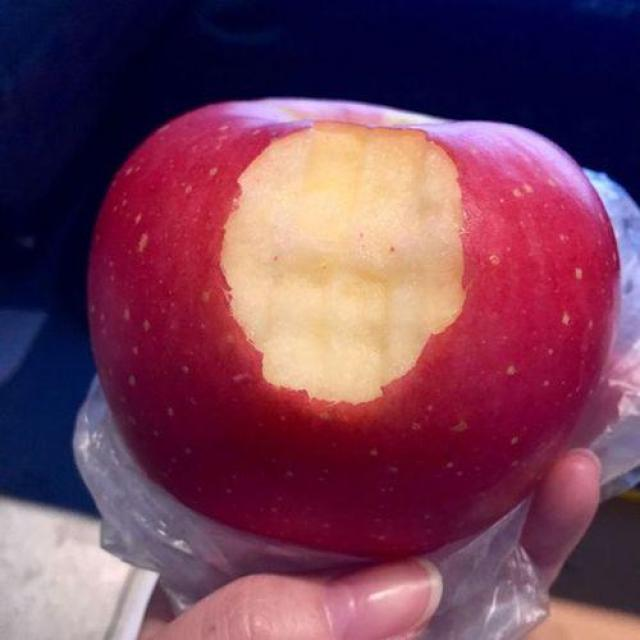Rotten: (75, 96, 616, 555)
